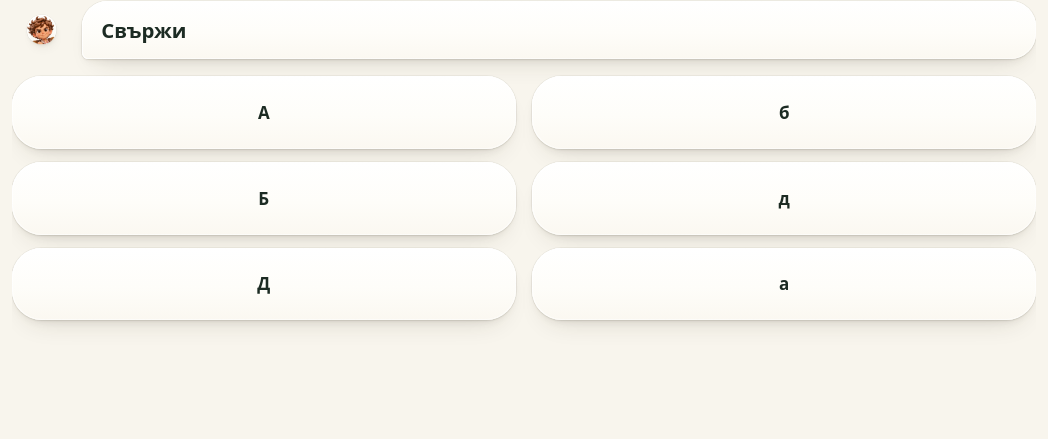
Test: match › works from either side and finishes
Later steps or results of the test are not shown.
Click the button "А" at (264, 113), box [12,76,516,149]
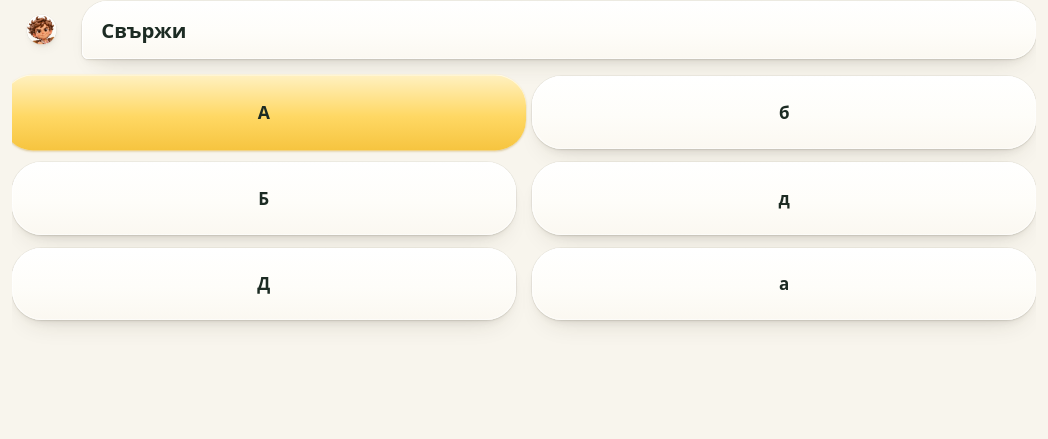
Click the button "д" at (784, 198), box [532,162,1036,235]
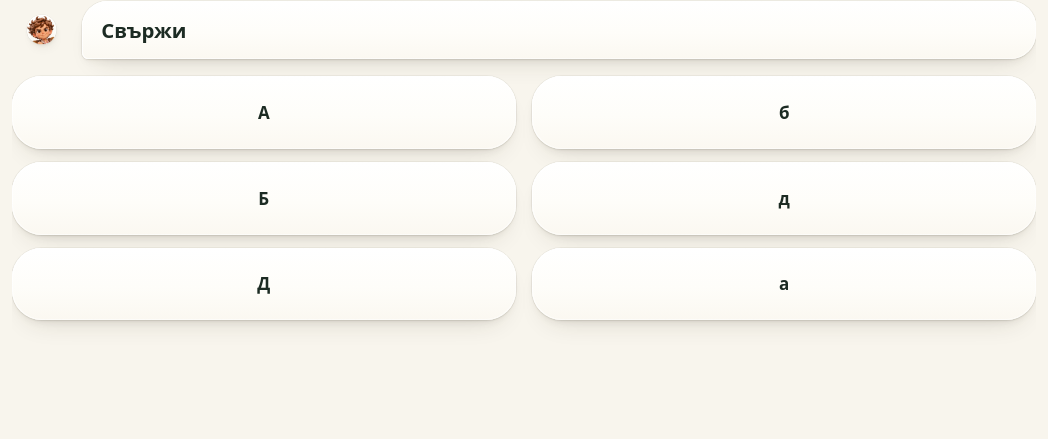
Click the button "а" at (784, 284), box [532,248,1036,320]
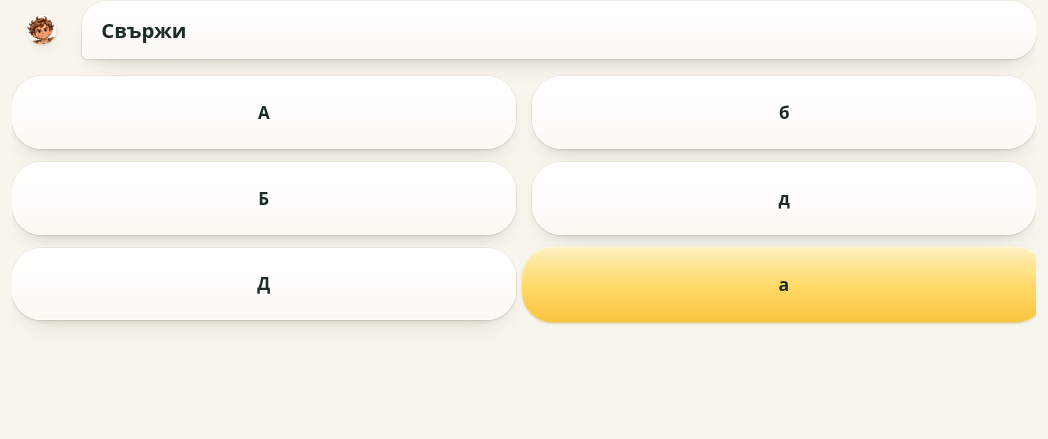
Click the button "А" at (264, 113), box [12,76,516,149]
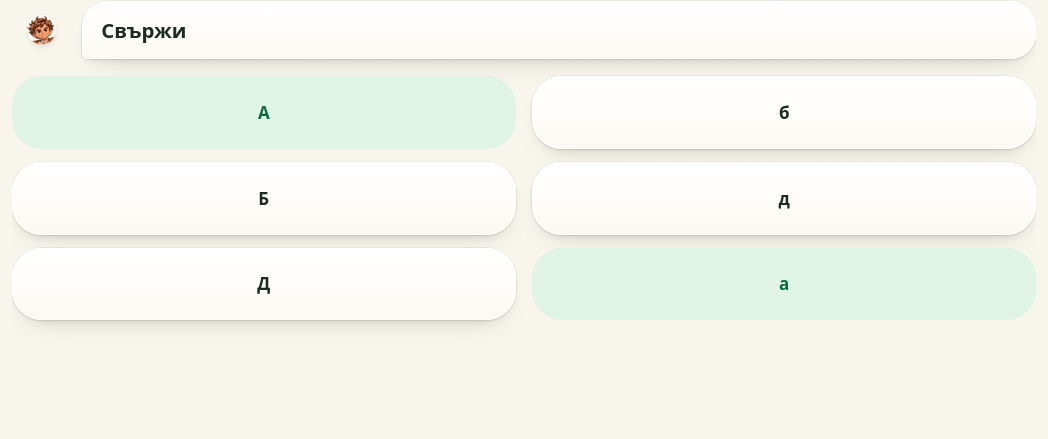
Check: the message is empty, box [12,337,1036,422]
Check: the button "А" is disabled, box [12,76,516,149]
